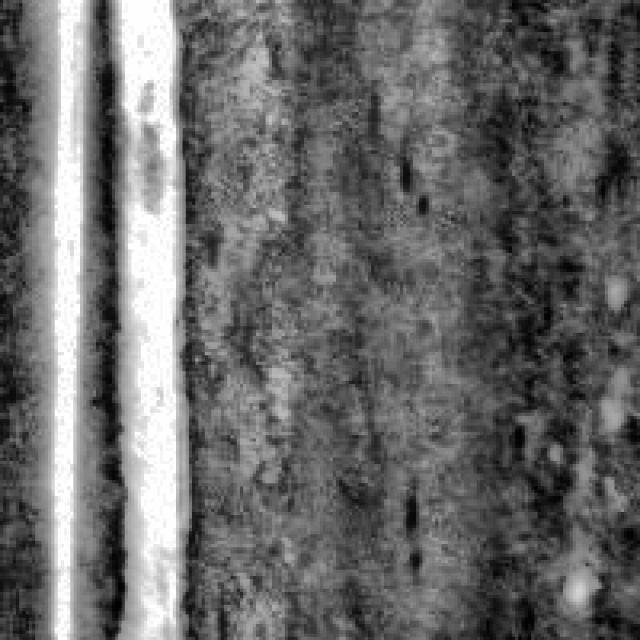Inclusion: (102, 0, 188, 634), (42, 0, 86, 634)
Patches: (391, 483, 428, 573)
